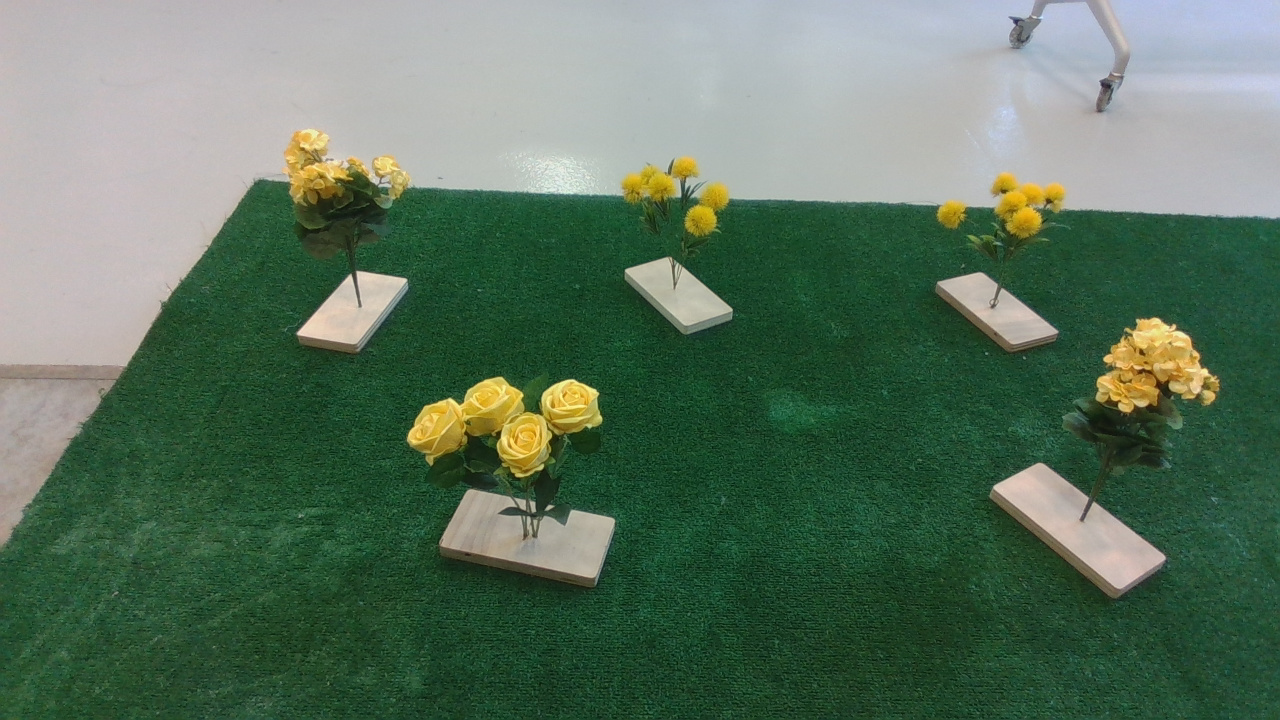dandelion: (619, 142, 748, 252), (917, 173, 1082, 258)
geranium: (1067, 310, 1231, 520), (286, 121, 424, 281)
rose: (402, 380, 628, 496)
